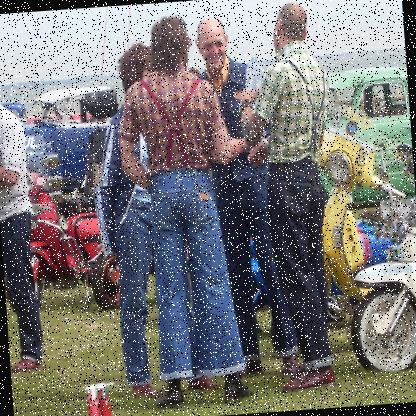Car: (304, 59, 416, 206), (0, 85, 124, 193)
